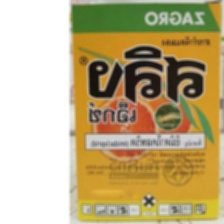book: (69, 0, 224, 222)
